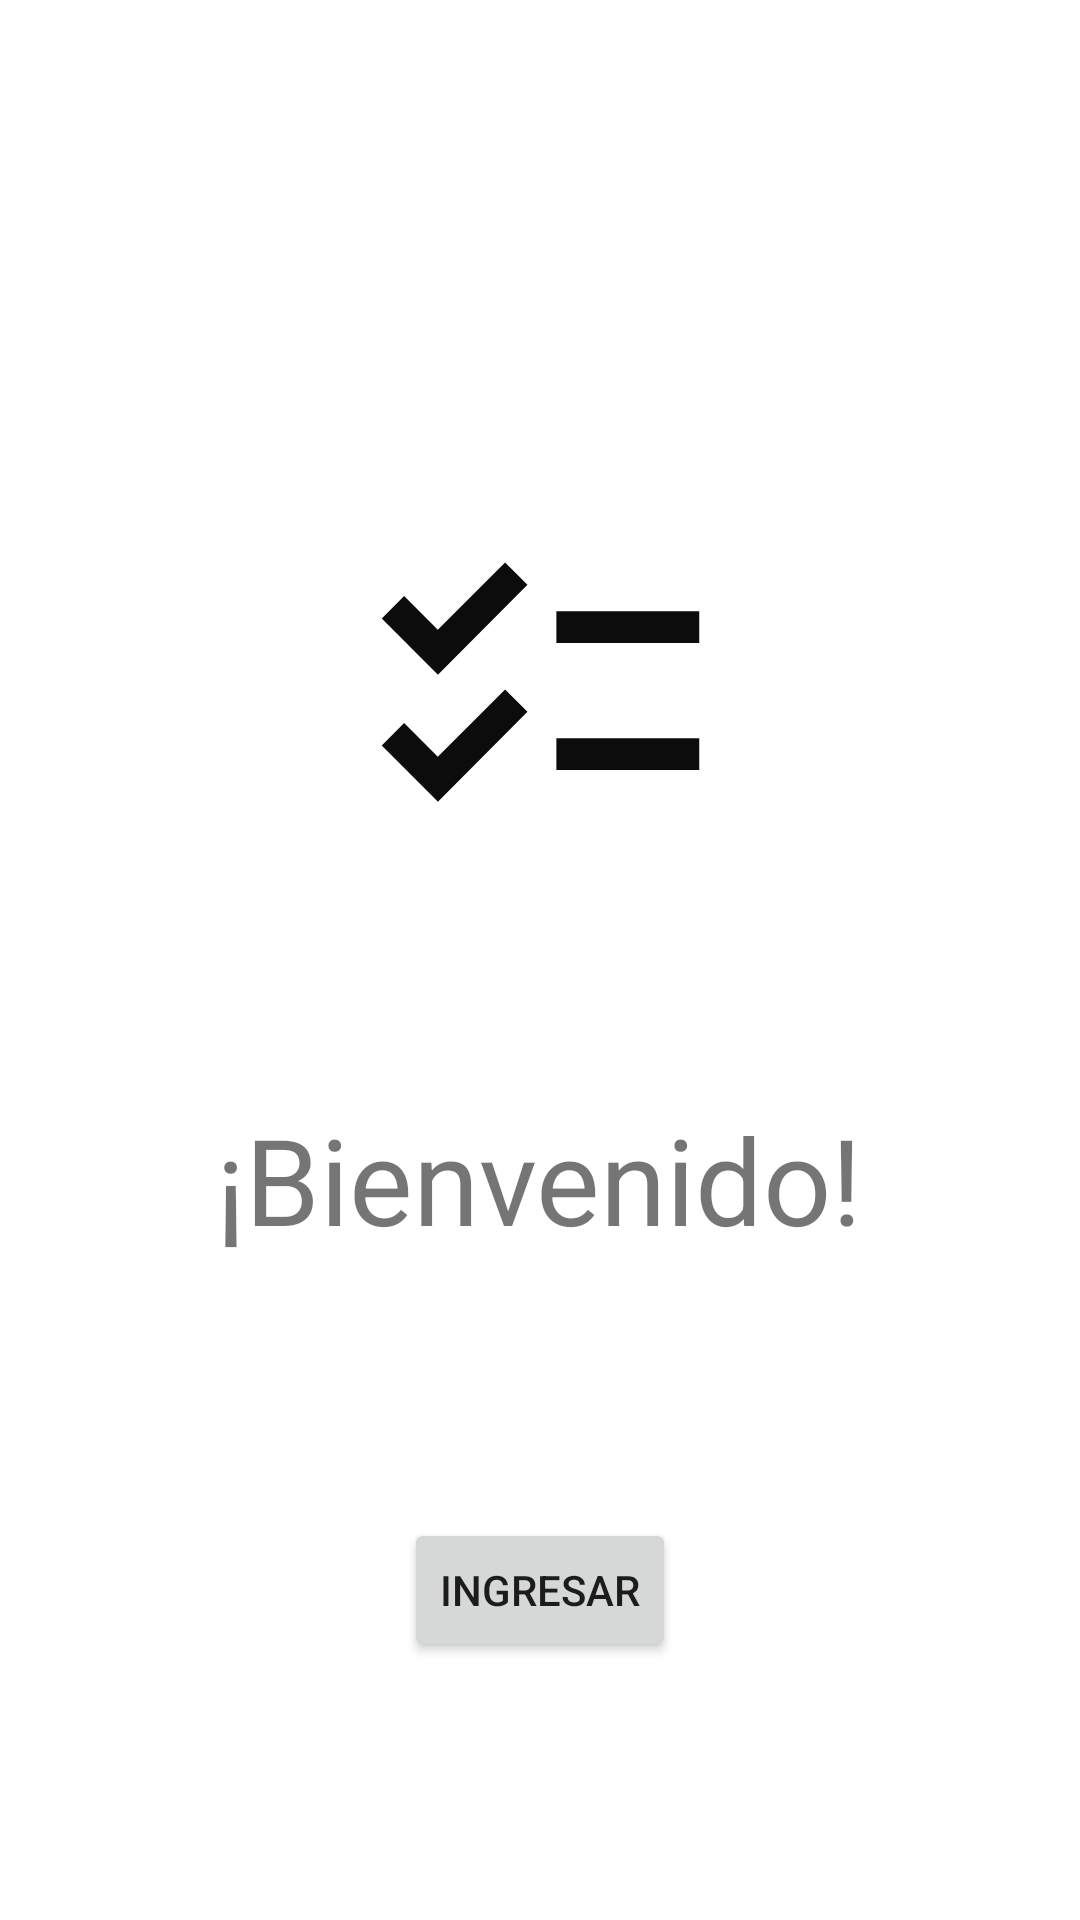

Locate icon controls on the screen. Image size 1080 x 1920, boxes as (x1, y1, x2, y2).
list: (382, 562, 700, 802)
